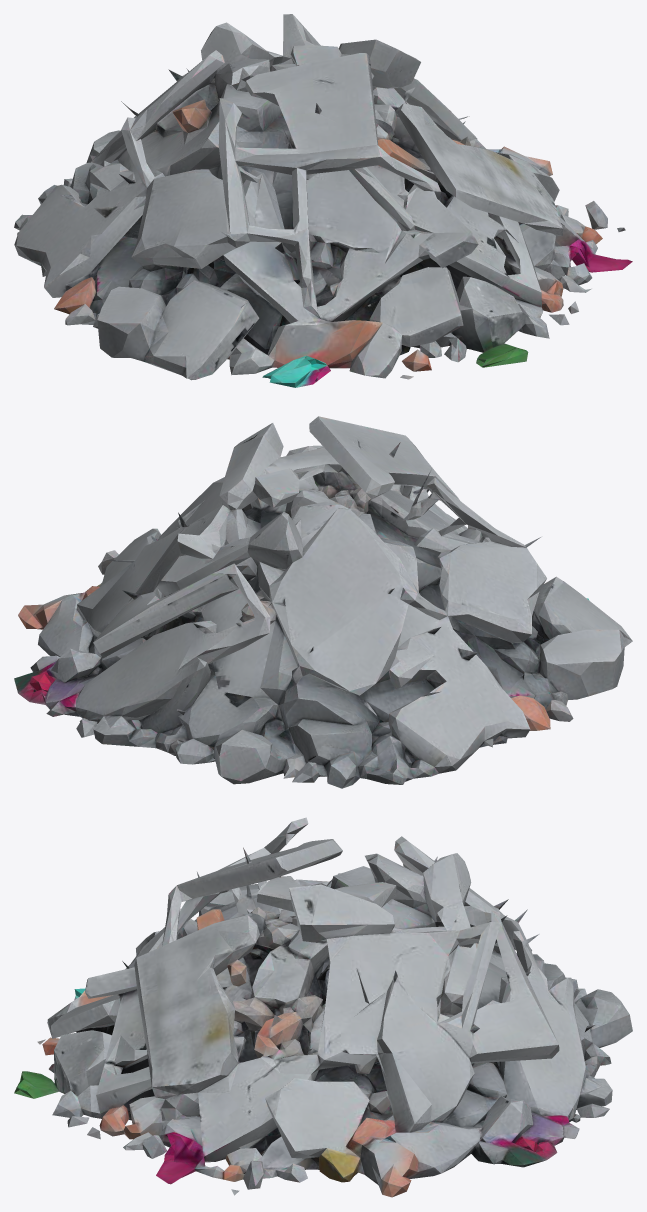
The model's file is rubble_pile.glb.
3 views of the same model, one above another, from view 1: azimuth 30°, elevation 25°; view 2: azimuth 150°, elevation 25°; view 3: azimuth 270°, elevation 25° (orthographic).
Visible parts, largest first — view 1: Mesh; view 2: Mesh; view 3: Mesh.
Boxes of the visible parts, left/top/right/bottom form: Mesh: left=14, top=14, right=632, bottom=387; Mesh: left=14, top=416, right=632, bottom=788; Mesh: left=14, top=817, right=632, bottom=1197.
Bounding box in the file's own units: 6 × 2.42 × 6.11.
1 material, 1 textured.
